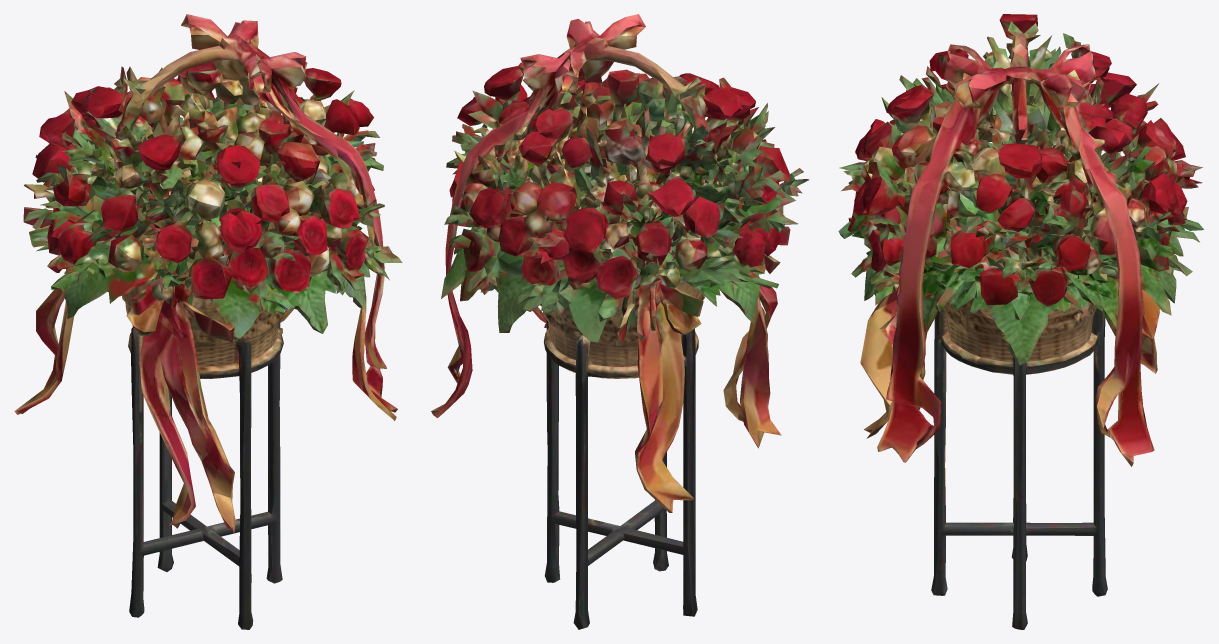
Rendered from aholo-20261119-grand-opening-flower-basket.glb.
The picture shows the model from 3 angles, left to right: view 1: azimuth 30°, elevation 25°; view 2: azimuth 150°, elevation 25°; view 3: azimuth 270°, elevation 25°; orthographic projection.
Visible parts, largest first — view 1: geometry_0; view 2: geometry_0; view 3: geometry_0.
Part boxes in pixels (box(x1,y1,x2,y2)): geometry_0: box(14, 14, 402, 629); geometry_0: box(431, 14, 809, 629); geometry_0: box(838, 14, 1203, 629).
Size of the model in its own units: 0.9158 by 1.4 by 0.8274.
1 material, 1 textured.
